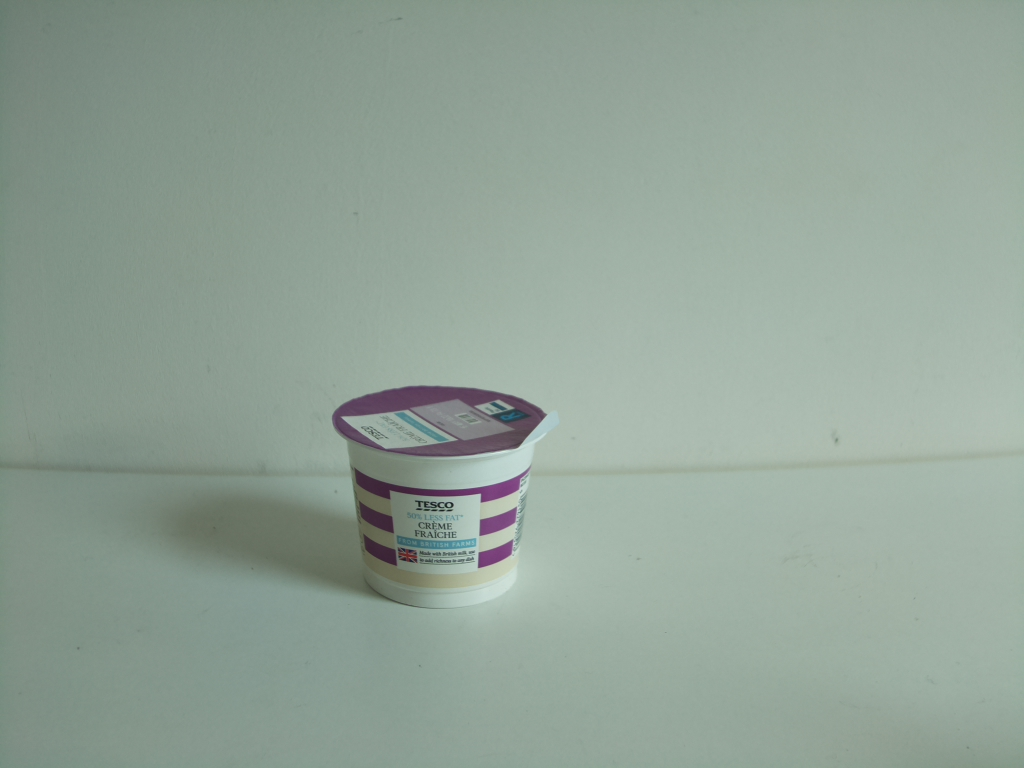cream: (331, 382, 554, 614)
